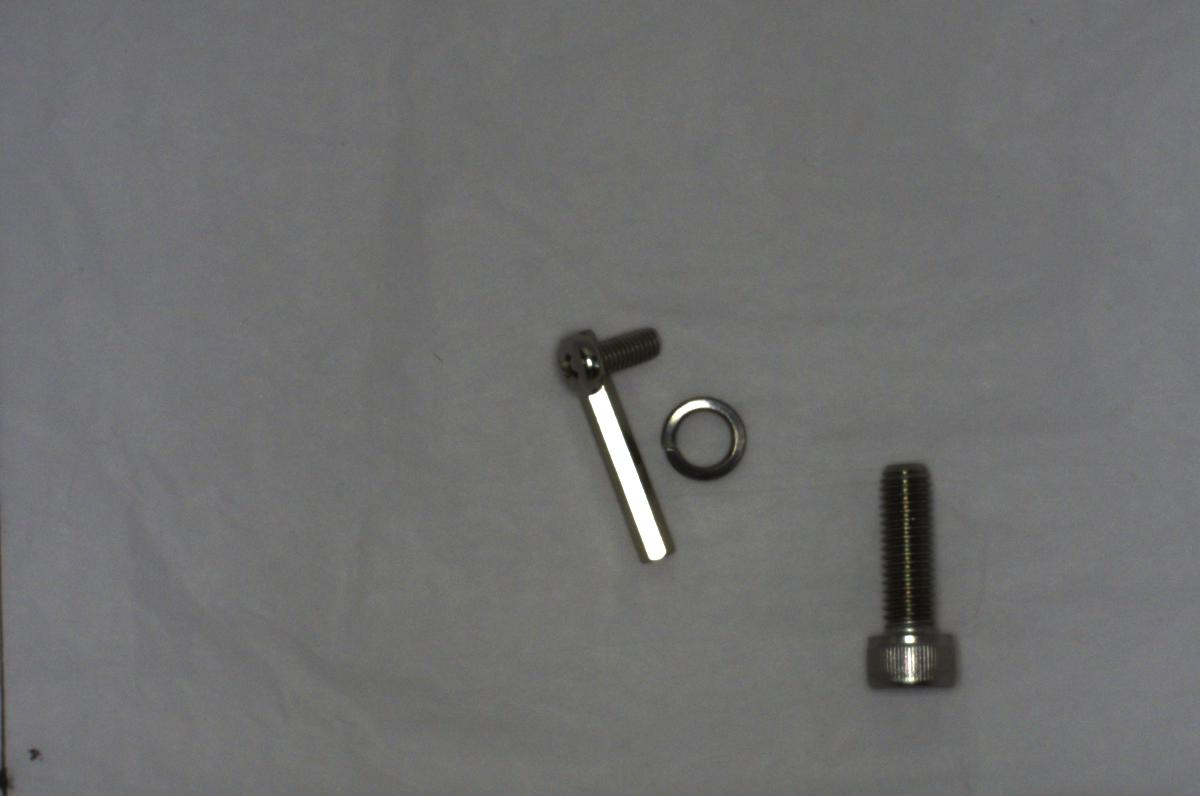Double hexagonal column: (575, 398, 673, 568)
Hexagon screw: (858, 453, 961, 709)
Round head screw: (554, 319, 665, 395)
Spring washer: (652, 392, 759, 488)
